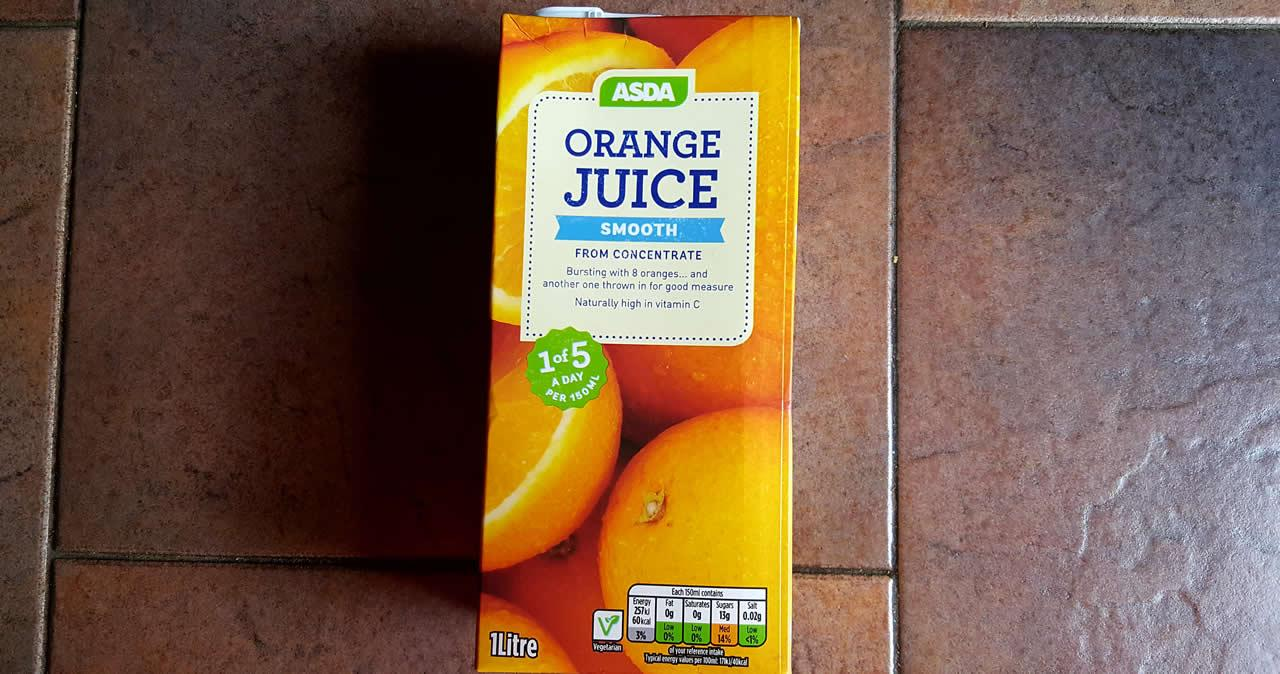cardboard: (478, 10, 798, 673)
